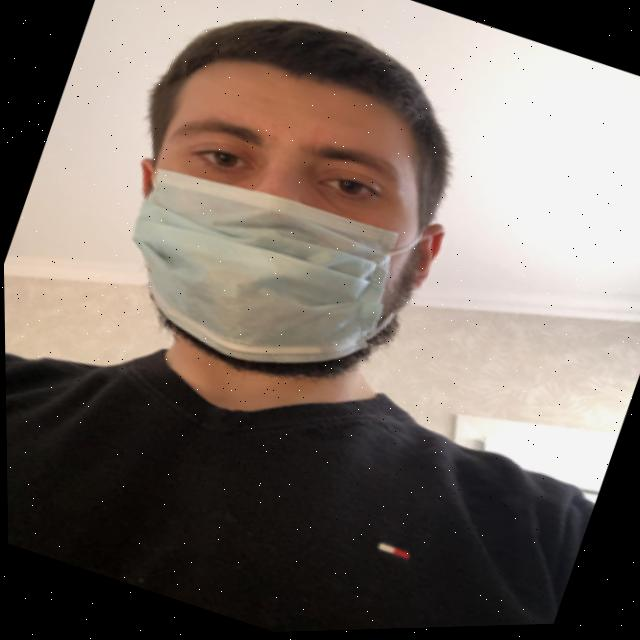Mask: (86, 124, 453, 434)
